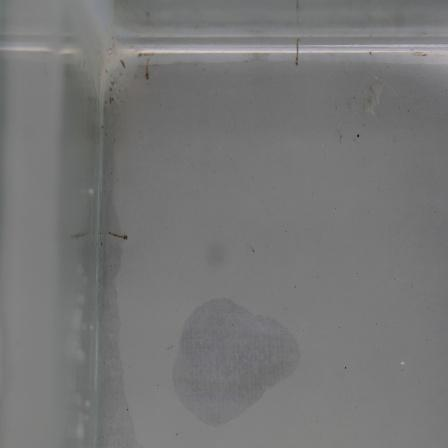Jentik-Nyamuk: (104, 224, 131, 246), (290, 37, 305, 70), (140, 53, 154, 86)
